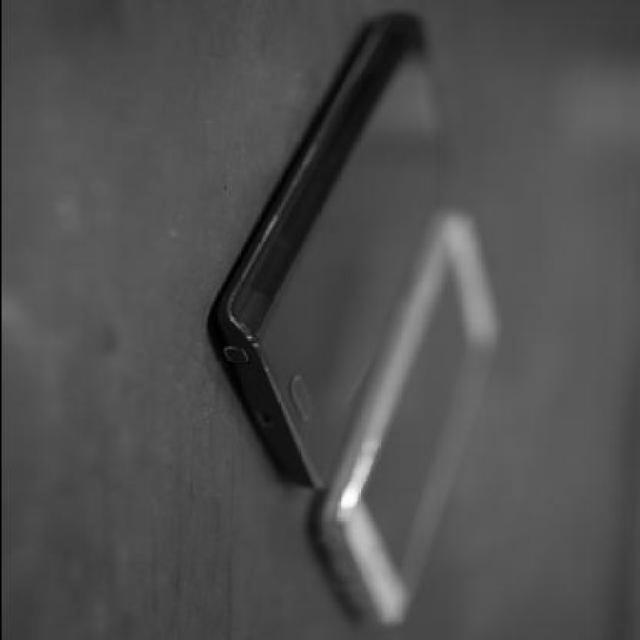fake: (207, 10, 456, 490), (312, 206, 496, 625)
